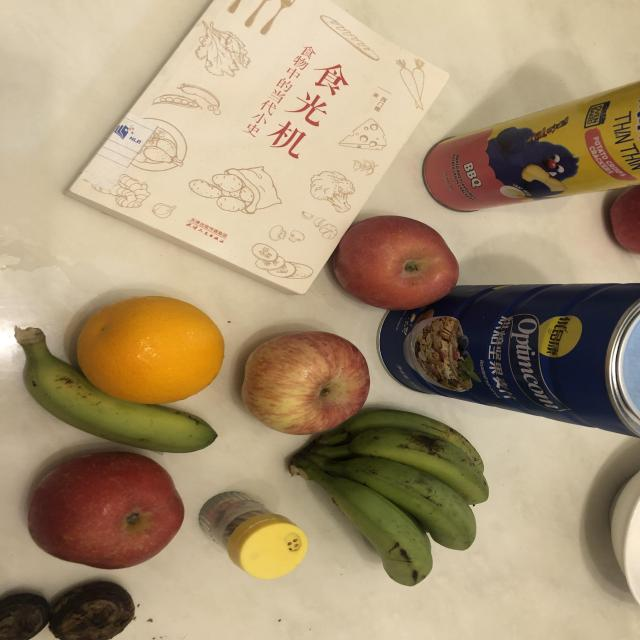Apple: (16, 446, 208, 584), (318, 208, 474, 326), (233, 326, 393, 436)
Banana: (286, 403, 512, 584), (0, 321, 236, 452)
Book: (44, 3, 483, 303)
Orange: (68, 280, 242, 420)
